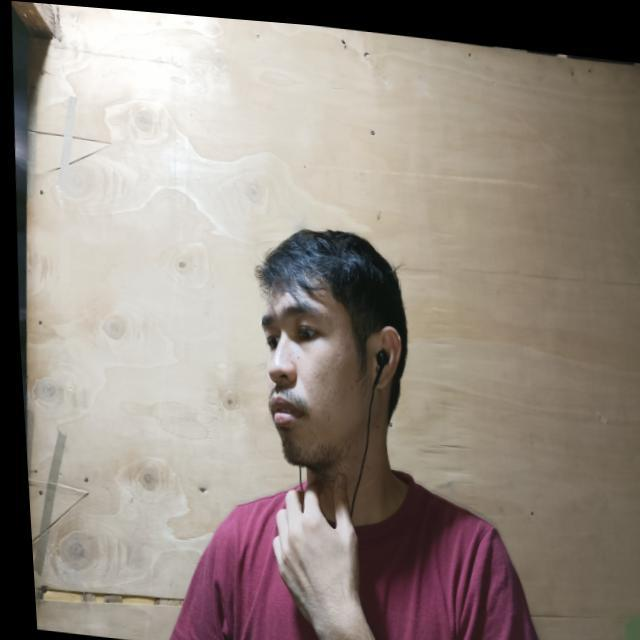Nonhelmet: (253, 226, 410, 427), (256, 284, 361, 469)
